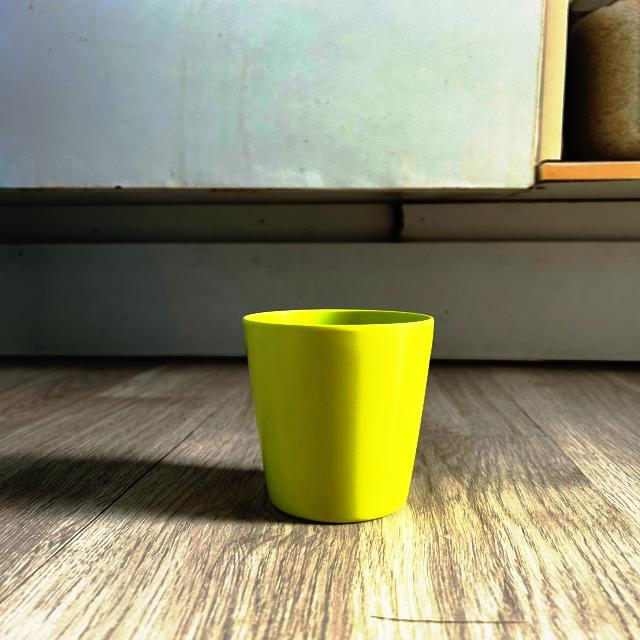WaterGlass: (244, 310, 433, 523)
